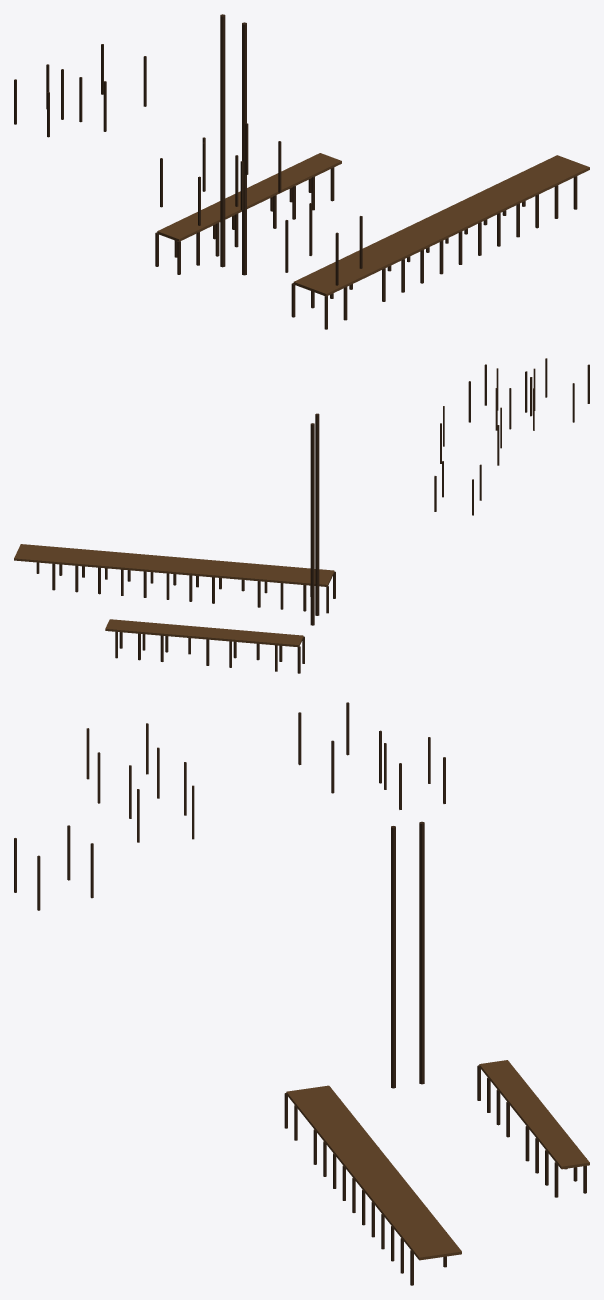
File: coast_saltglass_landing_lod1.glb
3 renders of one model, top to bottom at view 1: azimuth 30°, elevation 25°; view 2: azimuth 150°, elevation 25°; view 3: azimuth 270°, elevation 25°, orthographic. The views are drawn at different scales.
Parts seen in each view (by area): view 1: geometry_0; view 2: geometry_0; view 3: geometry_0.
Part boxes in pixels (left/top/right/bottom): geometry_0: left=14, top=14, right=589, bottom=329; geometry_0: left=14, top=358, right=589, bottom=673; geometry_0: left=14, top=702, right=589, bottom=1285.
Bounding box in the file's own units: 90.76 × 44.8 × 76.37.
